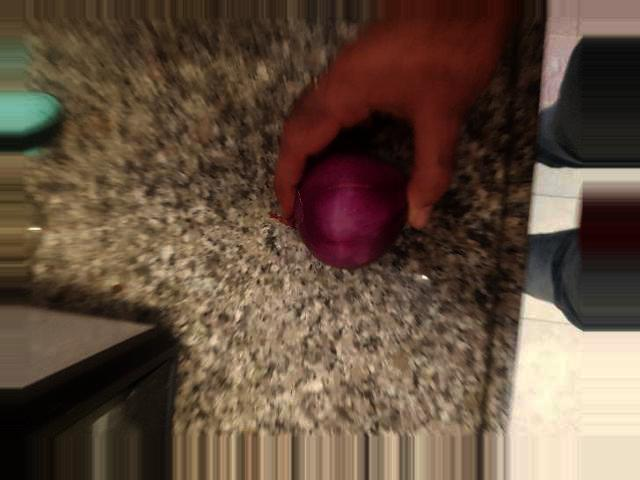onion: (196, 293, 315, 415)
